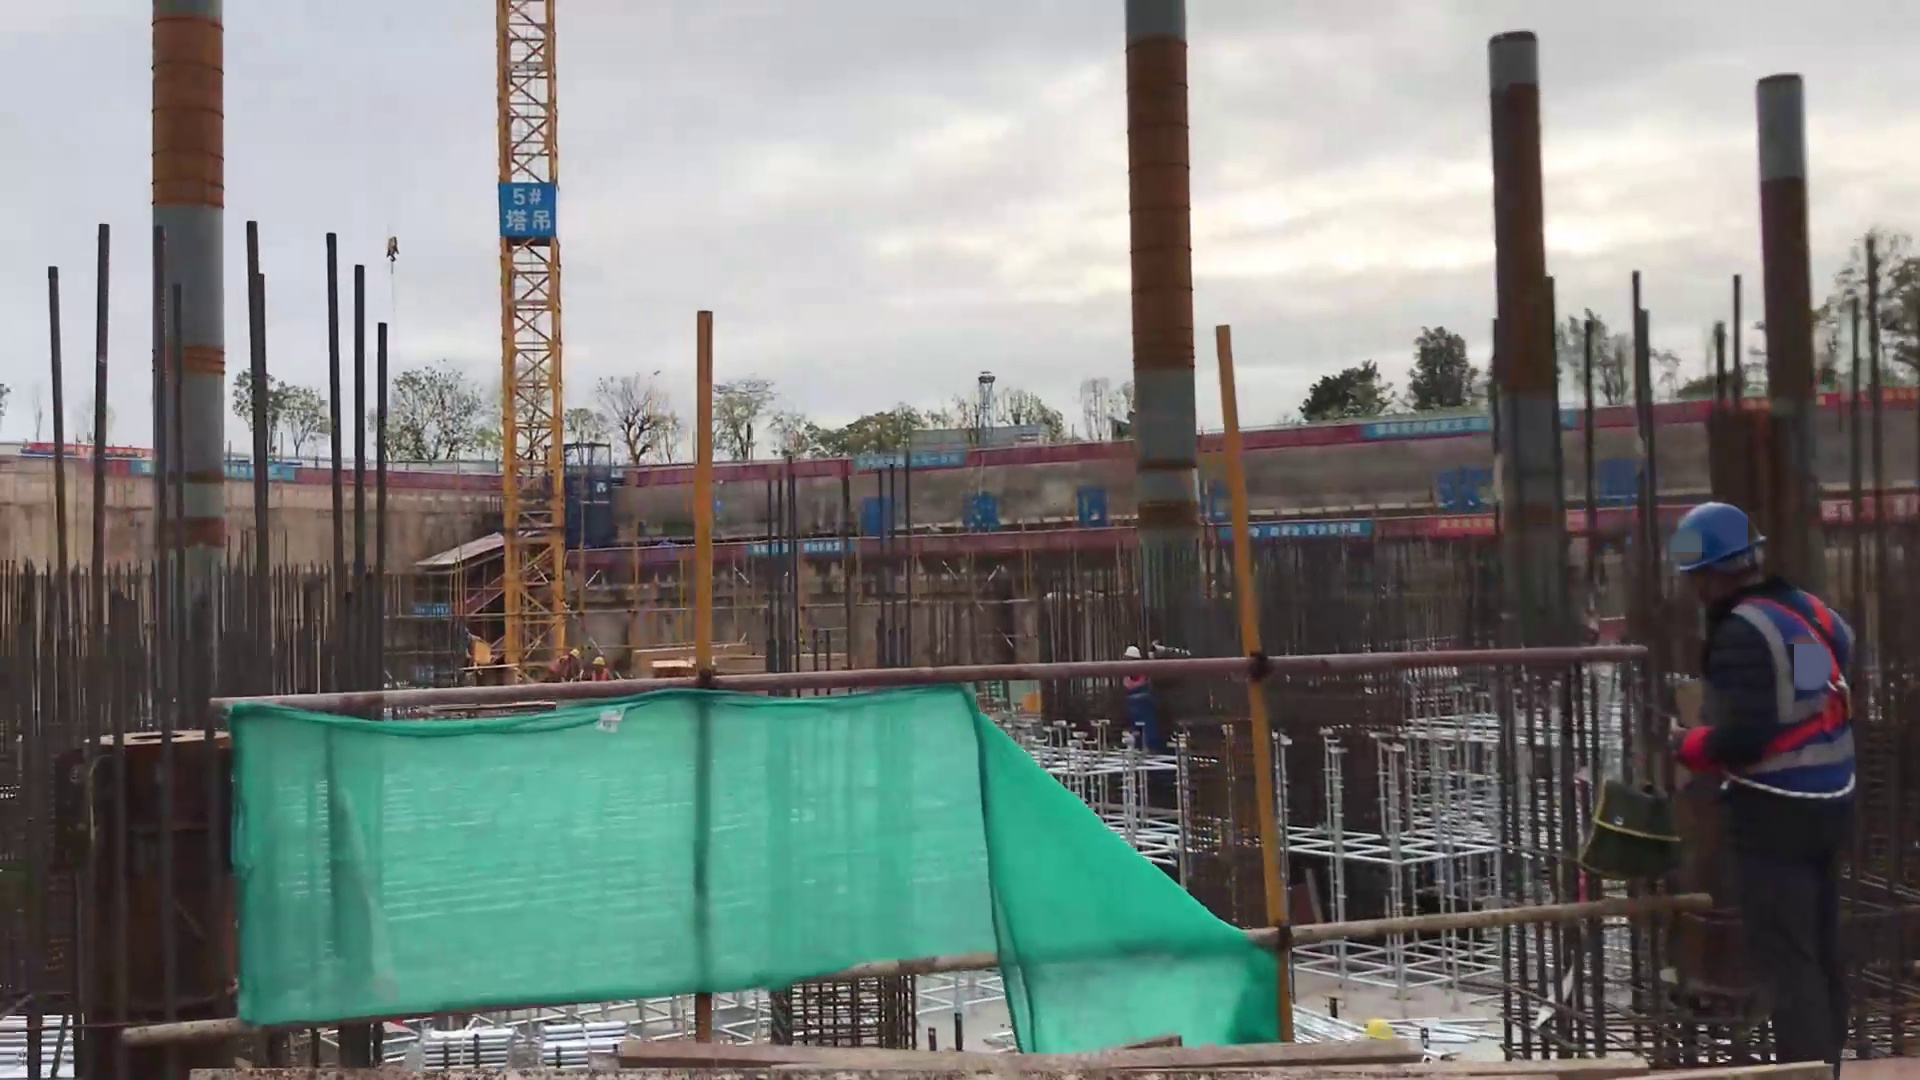helmet: (1672, 501, 1766, 573), (1124, 646, 1142, 659), (592, 657, 605, 666), (570, 650, 580, 659)
hook: (383, 234, 402, 265)
person: (1659, 494, 1863, 1060), (1122, 644, 1152, 745), (549, 649, 581, 683), (590, 656, 613, 682)
slogan: (1365, 407, 1579, 438), (1216, 522, 1380, 538), (744, 534, 855, 556), (856, 449, 965, 470), (1426, 507, 1496, 533), (225, 463, 296, 481)
vest: (1729, 594, 1856, 799)
